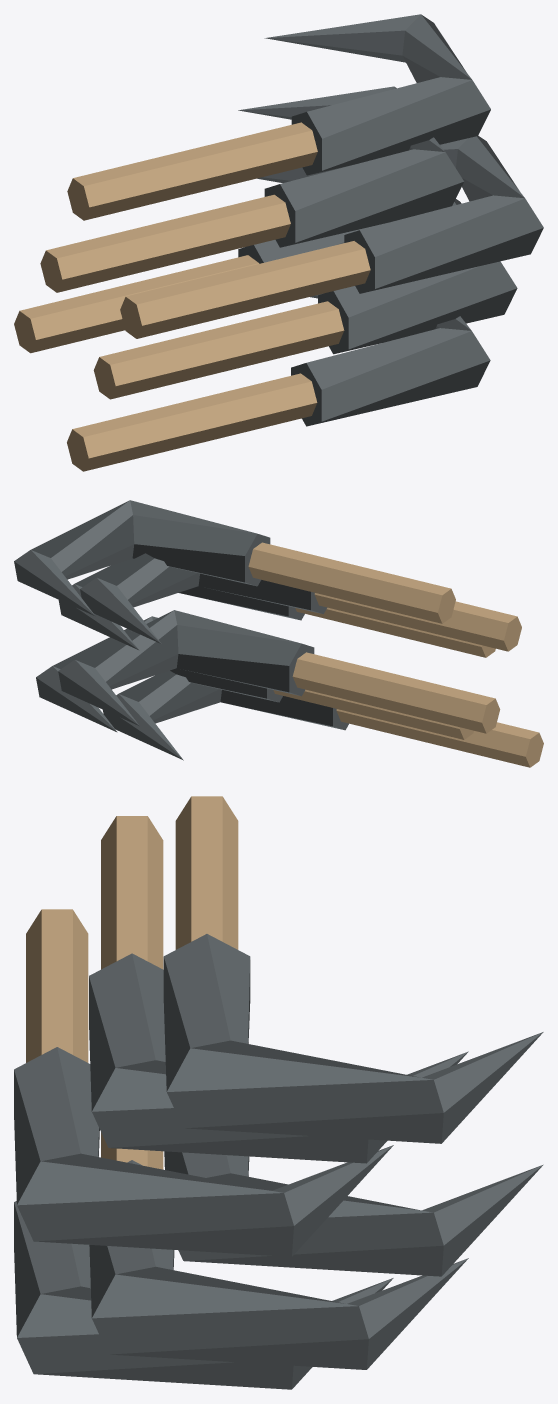
Rendered from item_051_sickle_l.glb.
3 renders of one model, top to bottom at view 1: azimuth 30°, elevation 25°; view 2: azimuth 150°, elevation 25°; view 3: azimuth 270°, elevation 25°, orthographic. The views are drawn at different scales.
Parts seen in each view (by area): view 1: item_051_sickle_l; view 2: item_051_sickle_l; view 3: item_051_sickle_l.
Part boxes in pixels (bbox=[...]): item_051_sickle_l: bbox=[14, 14, 543, 471]; item_051_sickle_l: bbox=[14, 500, 543, 767]; item_051_sickle_l: bbox=[14, 796, 543, 1389].
Size of the model in its own units: 0.6464 by 0.33 by 0.4246.
